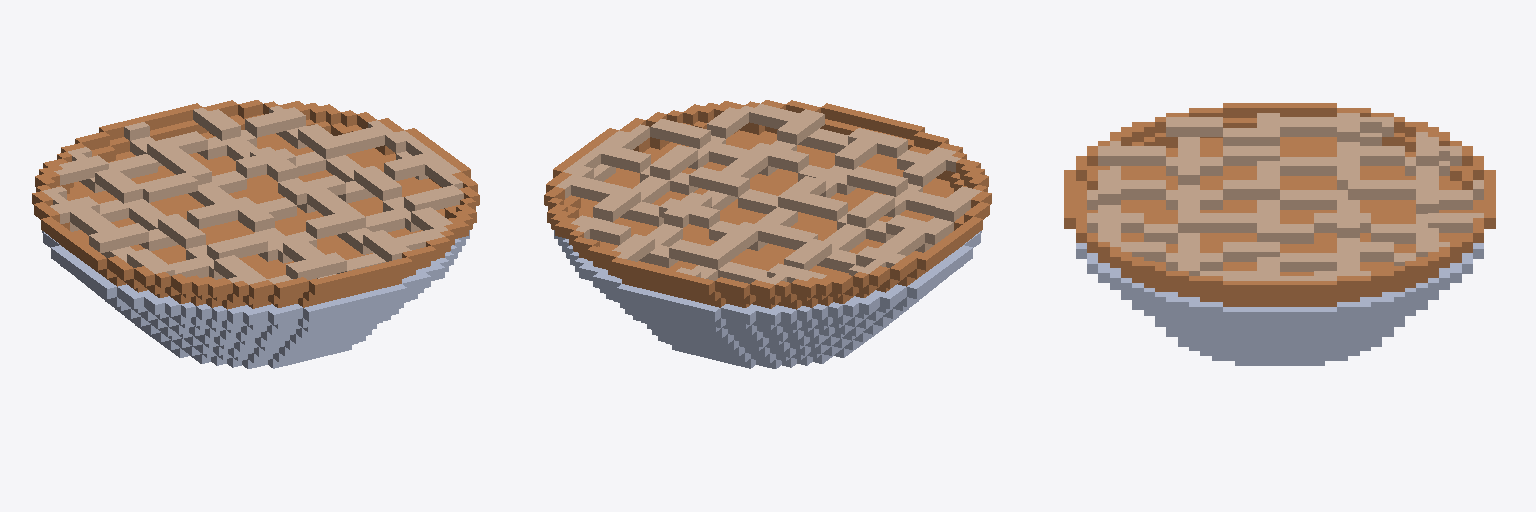
The picture shows the model from 3 angles: view 1: azimuth 30°, elevation 25°; view 2: azimuth 150°, elevation 25°; view 3: azimuth 270°, elevation 25°; orthographic projection.
Parts seen in each view (by area): view 1: object 1; view 2: object 1; view 3: object 1.
Boxes of the visible parts, box(x1,y1,x2,y2) form: object 1: box(32, 100, 479, 368); object 1: box(544, 100, 991, 368); object 1: box(1064, 103, 1495, 365).
Size of the model in its own units: 3.8 by 1.2 by 3.8.
Materials: 1 (1 with a texture image).